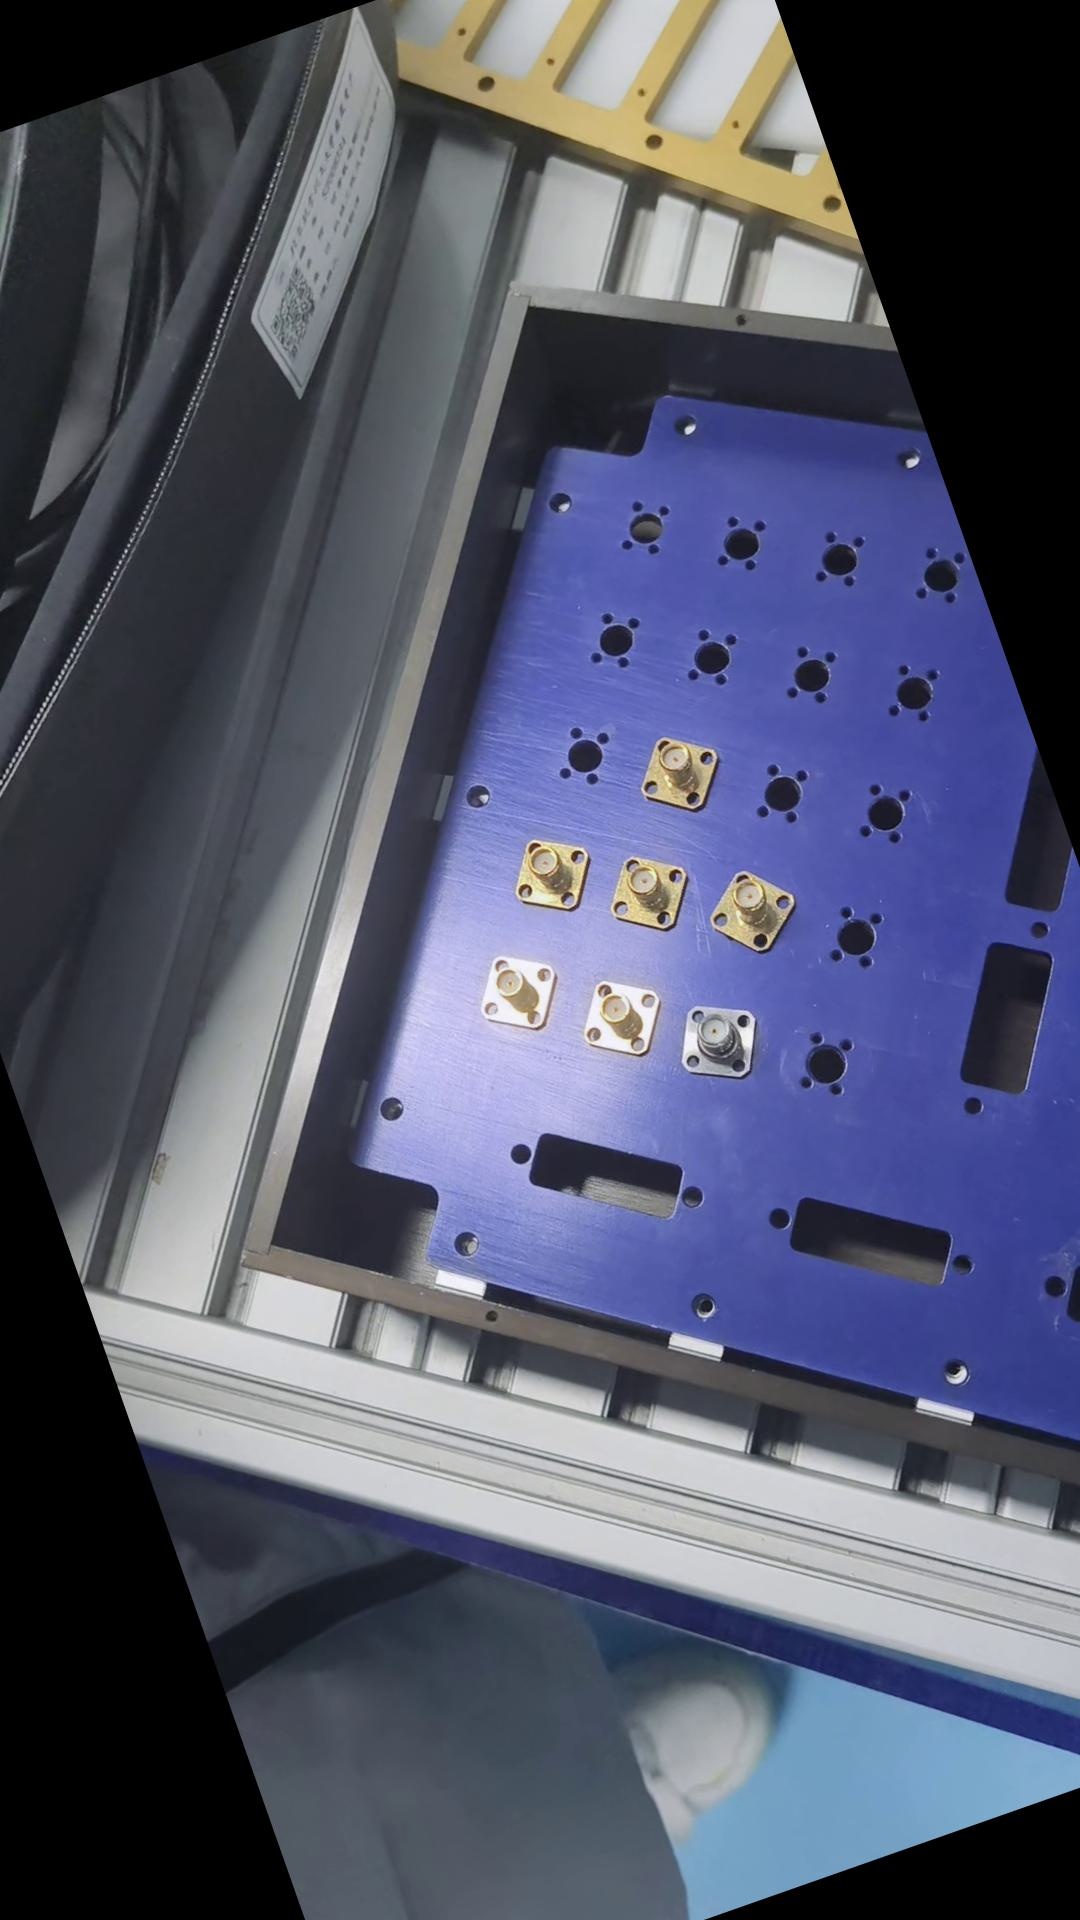SMA: (665, 984, 777, 1100), (702, 855, 814, 963), (575, 959, 680, 1068), (601, 833, 705, 944), (504, 818, 608, 924), (628, 723, 736, 825), (468, 938, 570, 1044)
